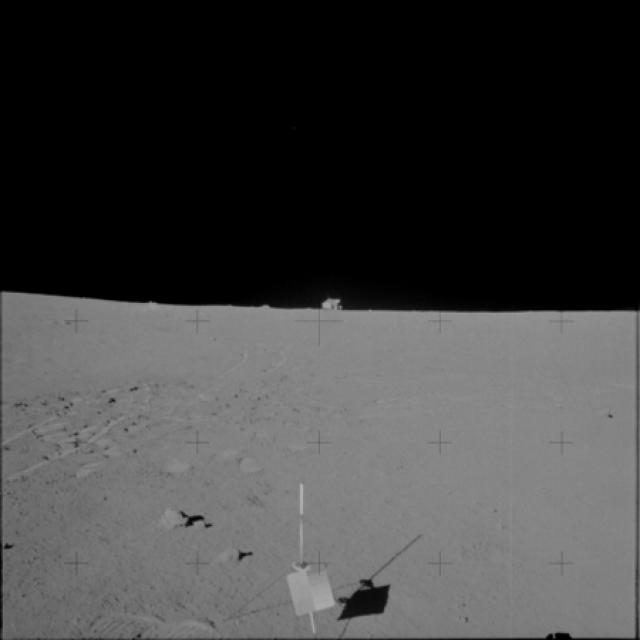rock: (156, 501, 210, 539), (216, 542, 240, 568)
